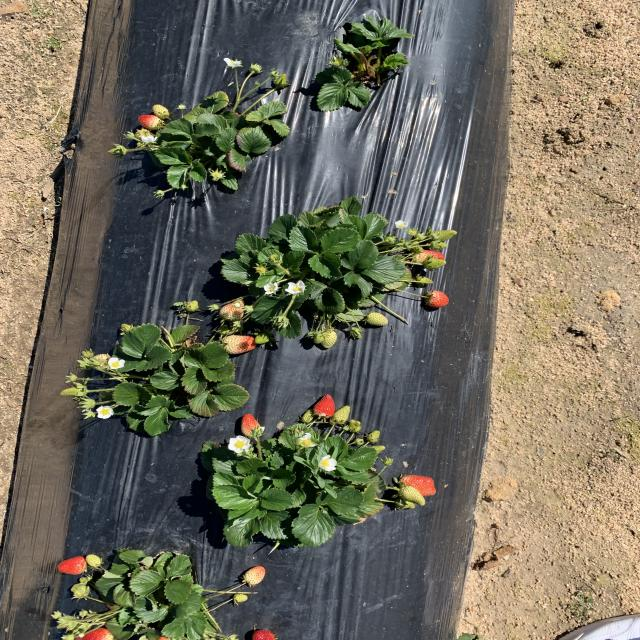unripe: (401, 475, 436, 496), (58, 555, 88, 575), (313, 392, 336, 418), (75, 627, 116, 640), (242, 413, 261, 435), (136, 113, 162, 129), (425, 291, 449, 308), (251, 628, 277, 640)
